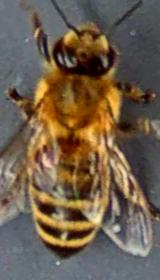varroa_mite: (31, 138, 59, 172)
